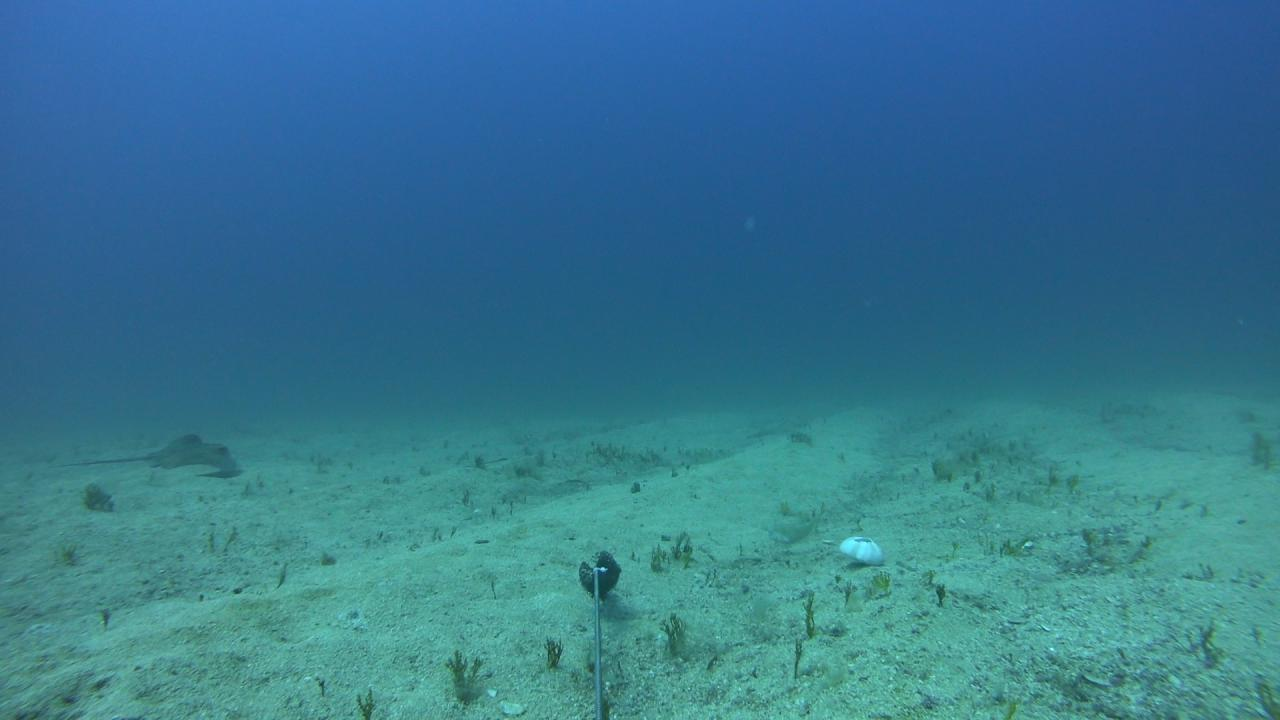dasyatis: (50, 432, 236, 473)
